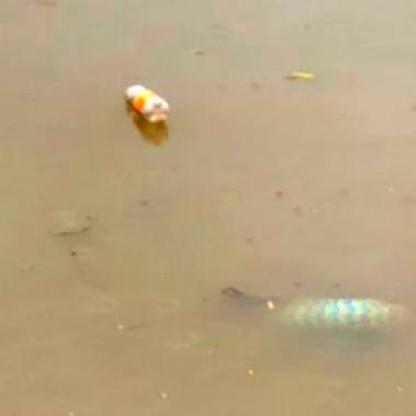plastic bottle: (126, 85, 170, 123)
